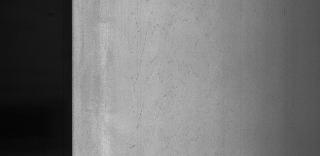silk spot: (120, 3, 202, 147)
